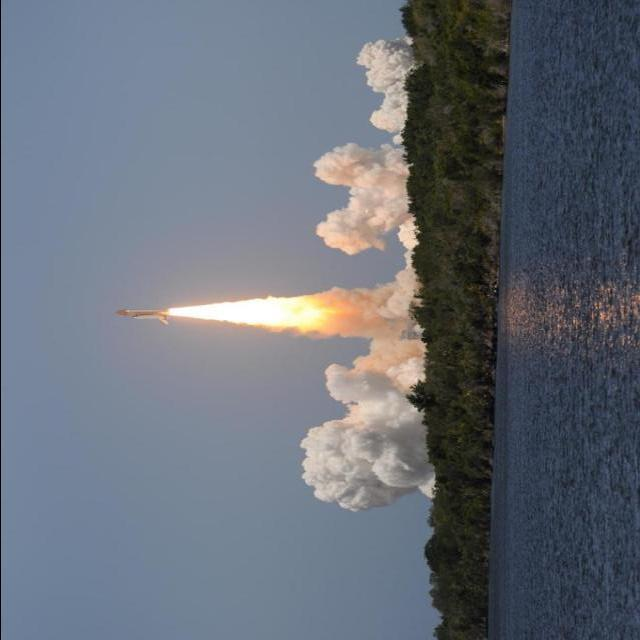Missile: (130, 314, 166, 320)
